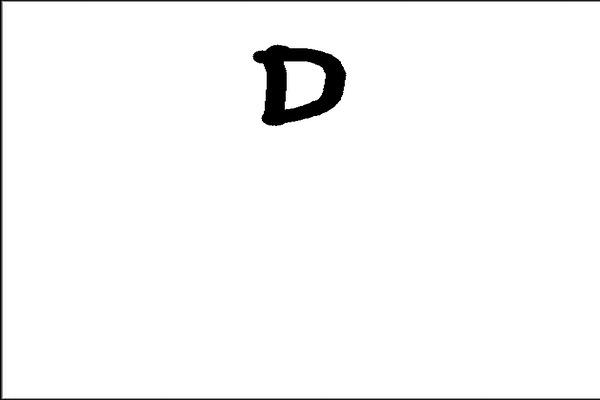D: (249, 40, 350, 129)
